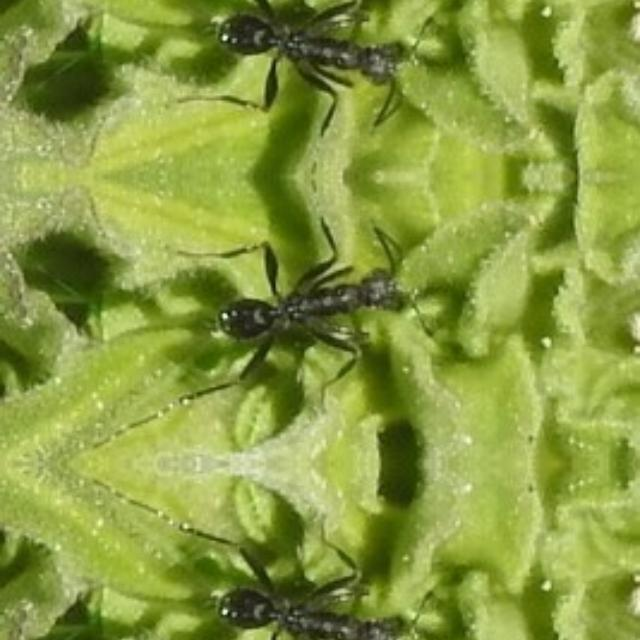Cataglyphis: (179, 246, 427, 364), (179, 0, 427, 104), (179, 562, 427, 640)
